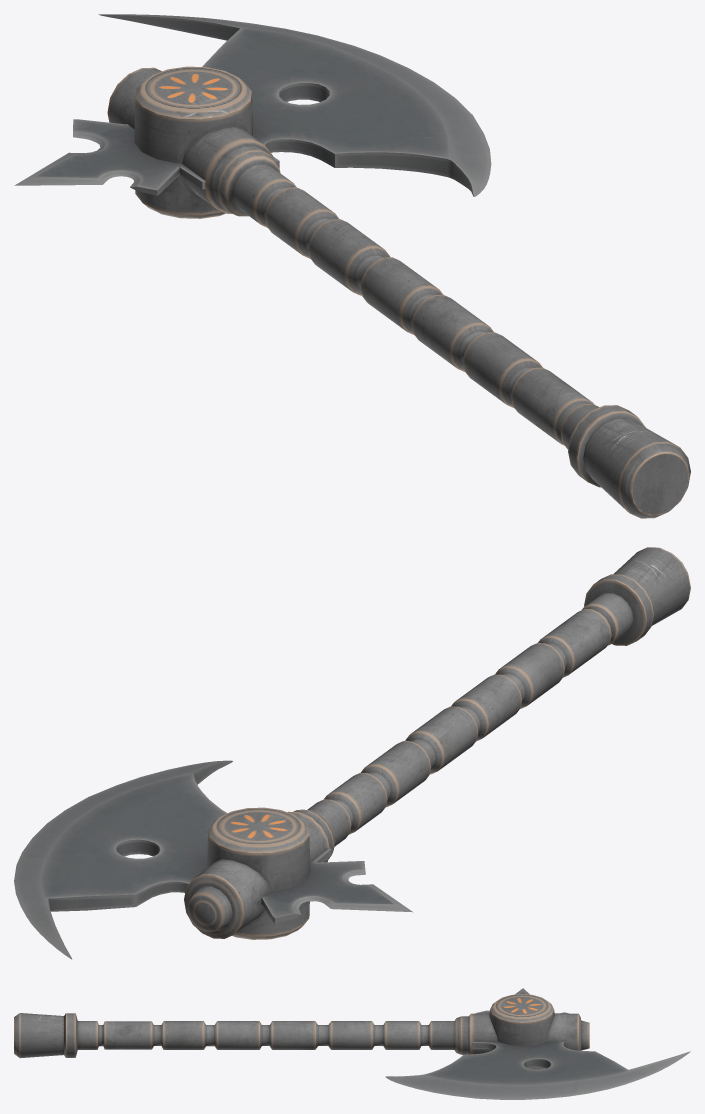
Rendered from axe.fbx.
3 renders of one model, top to bottom at view 1: azimuth 30°, elevation 25°; view 2: azimuth 150°, elevation 25°; view 3: azimuth 270°, elevation 25°, orthographic. The views are drawn at different scales.
Parts seen in each view (by area): view 1: Axe_low_tri; view 2: Axe_low_tri; view 3: Axe_low_tri.
Boxes of the visible parts, left/top/right/bottom form: Axe_low_tri: left=14, top=14, right=690, bottom=518; Axe_low_tri: left=14, top=547, right=690, bottom=959; Axe_low_tri: left=14, top=988, right=690, bottom=1099.
Size of the model in its own units: 34.79 by 8.6 by 89.
